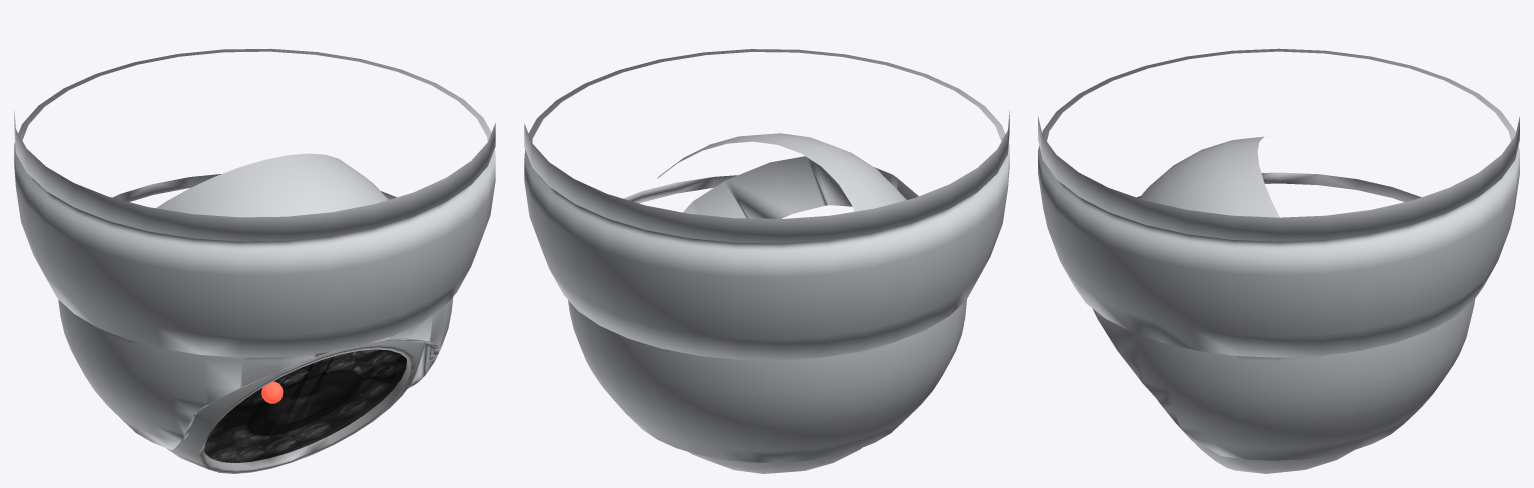
The model's file is camara_domo_free.glb.
3 views of the same model, side by side, from view 1: azimuth 30°, elevation 25°; view 2: azimuth 150°, elevation 25°; view 3: azimuth 270°, elevation 25° (orthographic).
Parts seen in each view (by area): view 1: Base, Ojo; view 2: Base, Ojo; view 3: Base, Ojo.
Boxes of the visible parts, x1,y1,x2,y2 form: Base: (14, 48, 495, 449); Ojo: (156, 153, 425, 473); Base: (524, 49, 1009, 462); Ojo: (657, 133, 906, 473); Base: (1038, 48, 1519, 460); Ojo: (1139, 136, 1353, 473).
Bounding box in the file's own units: 2 × 1.57 × 2.
3 materials, 1 textured.
